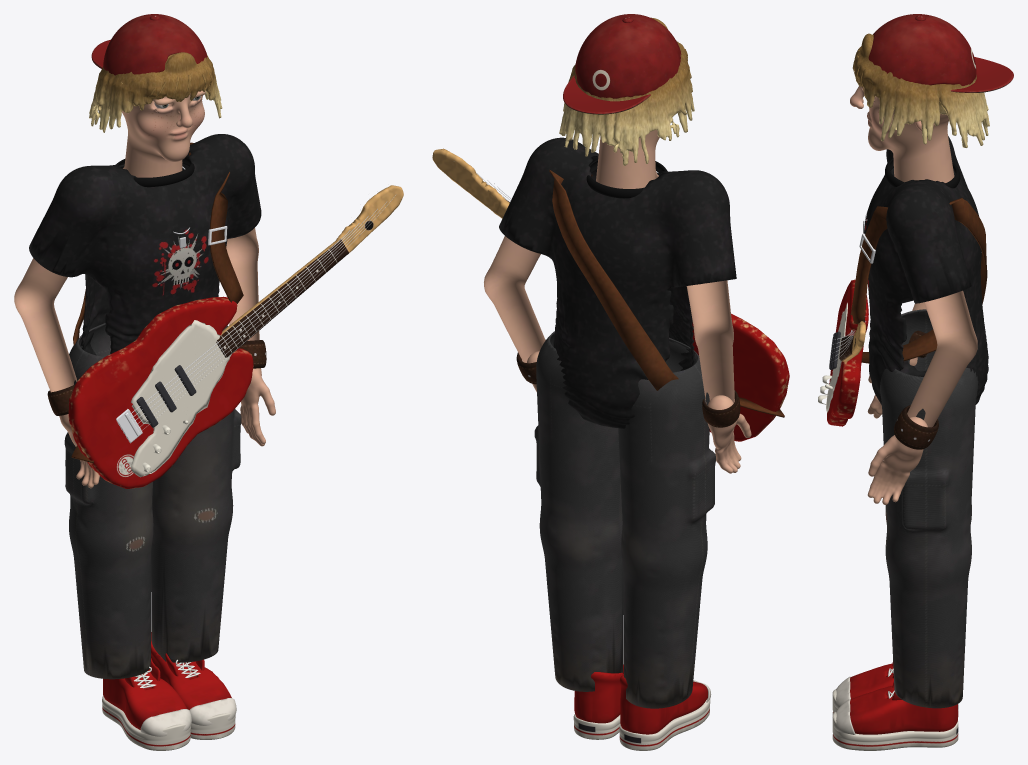
The model's file is enemy_bully_review.glb.
3 renders of one model, left to right at view 1: azimuth 30°, elevation 25°; view 2: azimuth 150°, elevation 25°; view 3: azimuth 270°, elevation 25°, orthographic. The views are drawn at different scales.
Visible parts, largest first — view 1: Bully_Pants, Bully_Tee, Bully_GuitarBody, Bully_Pickguard, Bully_Body, Bully_GuitarNeck, Bully_HairMass, Bully_Head, Bully_Cap, Bully_Shoe0_Upper, Bully_Strap, Bully_Shoe1_Upper (+7 smaller); view 2: Bully_Pants, Bully_Tee, Bully_Body, Bully_Cap, Bully_HairMass, Bully_Strap, Bully_GuitarBody, Bully_Head, Bully_Shoe0_Upper, Bully_Shoe1_Upper, Bully_GuitarNeck, Bully_Shoe0_Sole (+5 smaller); view 3: Bully_Pants, Bully_Tee, Bully_HairMass, Bully_Cap, Bully_Body, Bully_Head, Bully_Strap, Bully_Shoe1_Upper, Bully_Hand1, Bully_GuitarBody, Bully_Shoe1_Sole, Bully_CapBrim (+7 smaller).
Boxes of the visible parts, box(x1,y1,x2,y2) form: Bully_Pants: box(64, 323, 241, 679); Bully_Tee: box(29, 134, 261, 355); Bully_GuitarBody: box(68, 296, 253, 488); Bully_Pickguard: box(131, 320, 231, 477); Bully_Body: box(14, 166, 259, 392); Bully_GuitarNeck: box(216, 185, 403, 357); Bully_HairMass: box(89, 52, 222, 132); Bully_Head: box(122, 90, 205, 177); Bully_Cap: box(103, 14, 207, 75); Bully_Shoe0_Upper: box(103, 669, 186, 729); Bully_Strap: box(71, 142, 243, 462); Bully_Shoe1_Upper: box(151, 632, 231, 709); Bully_Pants: box(534, 331, 715, 708); Bully_Tee: box(499, 137, 736, 428); Bully_Body: box(484, 169, 734, 403); Bully_Cap: box(575, 14, 681, 98); Bully_HairMass: box(559, 17, 694, 165); Bully_Strap: box(549, 170, 784, 417); Bully_GuitarBody: box(692, 313, 789, 441); Bully_Head: box(596, 130, 659, 188); Bully_Shoe0_Upper: box(619, 675, 707, 734); Bully_Shoe1_Upper: box(574, 672, 623, 723); Bully_GuitarNeck: box(432, 148, 509, 218); Bully_Shoe0_Sole: box(619, 680, 710, 750); Bully_Pants: box(880, 309, 978, 708); Bully_Tee: box(863, 136, 988, 405); Bully_HairMass: box(854, 33, 989, 147); Bully_Cap: box(868, 14, 976, 85); Bully_Body: box(893, 155, 977, 427); Bully_Head: box(850, 86, 954, 182); Bully_Strap: box(850, 198, 987, 363); Bully_Shoe1_Upper: box(850, 686, 958, 734); Bully_Hand1: box(867, 417, 927, 504); Bully_GuitarBody: box(827, 279, 868, 426); Bully_Shoe1_Sole: box(832, 711, 958, 750); Bully_CapBrim: box(950, 57, 1013, 92).
Bounding box in the file's own units: 0.7769 × 1.53 × 0.3808.
32 materials, 24 textured.
